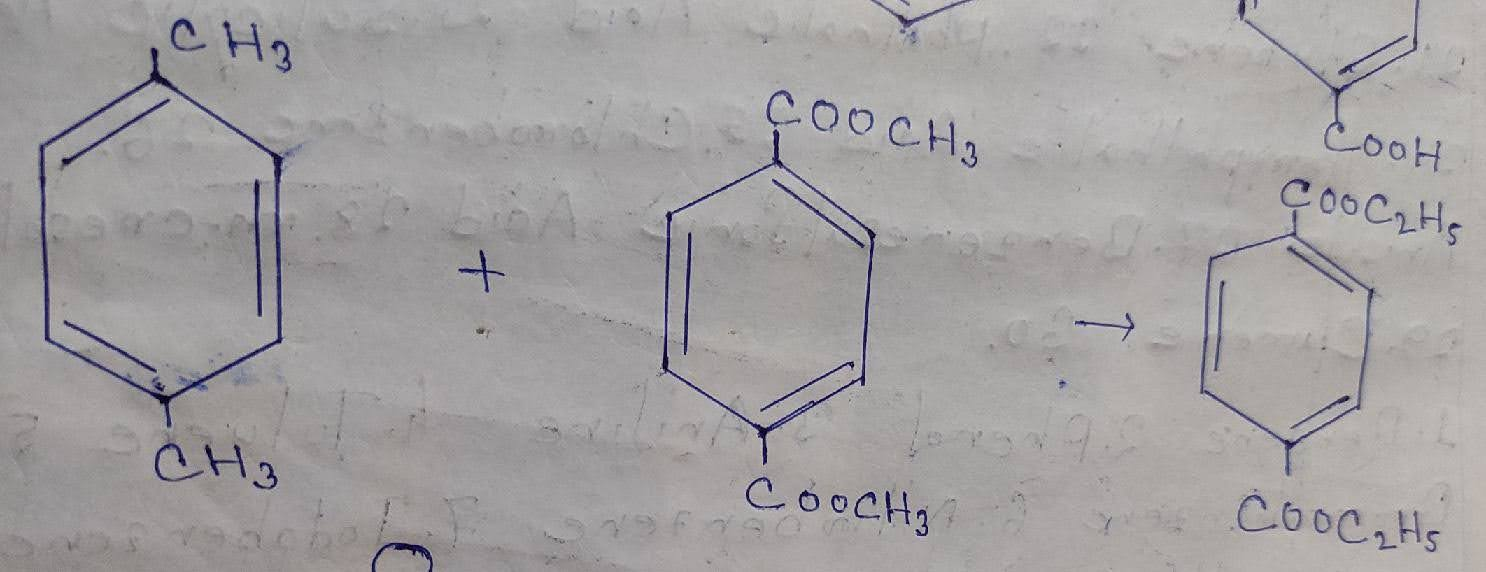Diethyl Terephthalate(C12H14O4): (1191, 175, 1466, 559)
Dimethyl Terephthalate(C10H10O4): (657, 84, 981, 543)
P-Xylene(C8H10): (34, 13, 297, 494)
